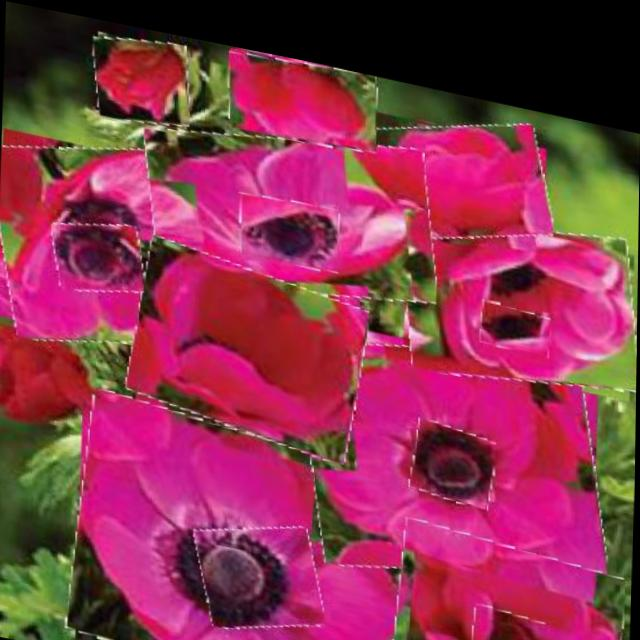Flower: (298, 292, 608, 587), (72, 386, 422, 640), (146, 93, 438, 313), (130, 232, 369, 449), (0, 118, 210, 362), (401, 180, 639, 384), (347, 81, 553, 245), (395, 502, 626, 640), (197, 502, 324, 632), (227, 36, 378, 142), (93, 24, 191, 126), (239, 178, 340, 262), (52, 210, 145, 297), (411, 402, 496, 490), (472, 583, 548, 640), (479, 279, 551, 337)
